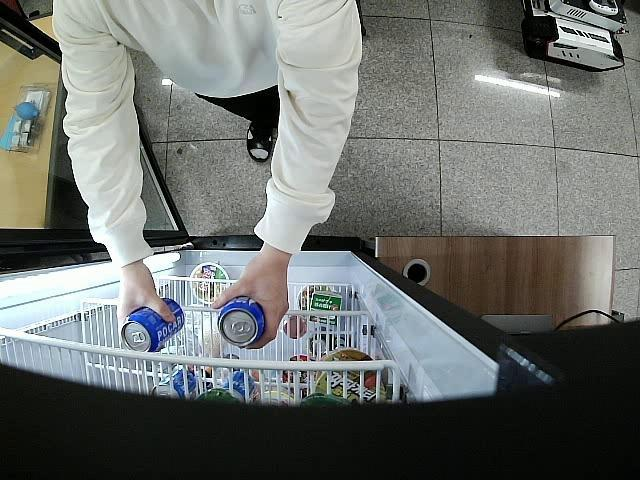13_pocariSweat: (122, 300, 184, 350), (216, 294, 265, 349)
